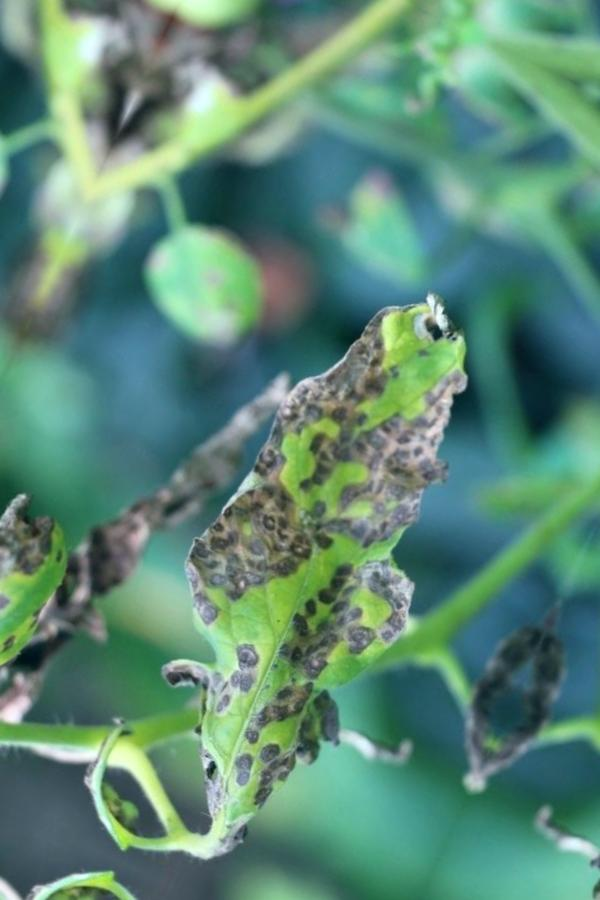Tomato leaf bacterial spot: (70, 229, 543, 872), (0, 460, 107, 785)
